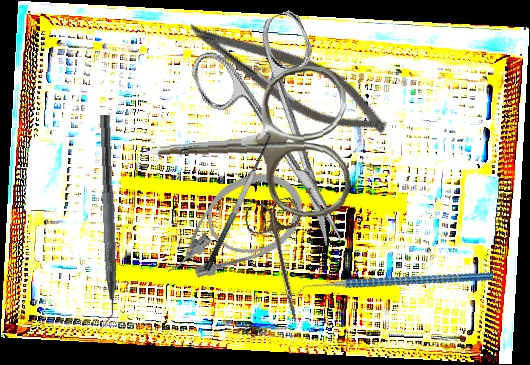Cannula: (145, 158, 317, 296)
Chopper: (294, 221, 495, 351), (84, 114, 122, 333)
Iris Scissors: (183, 7, 386, 268), (140, 64, 353, 226), (242, 195, 325, 329)
Micro Scissor: (175, 9, 399, 149)
Spatula Surgical: (192, 128, 278, 272)
